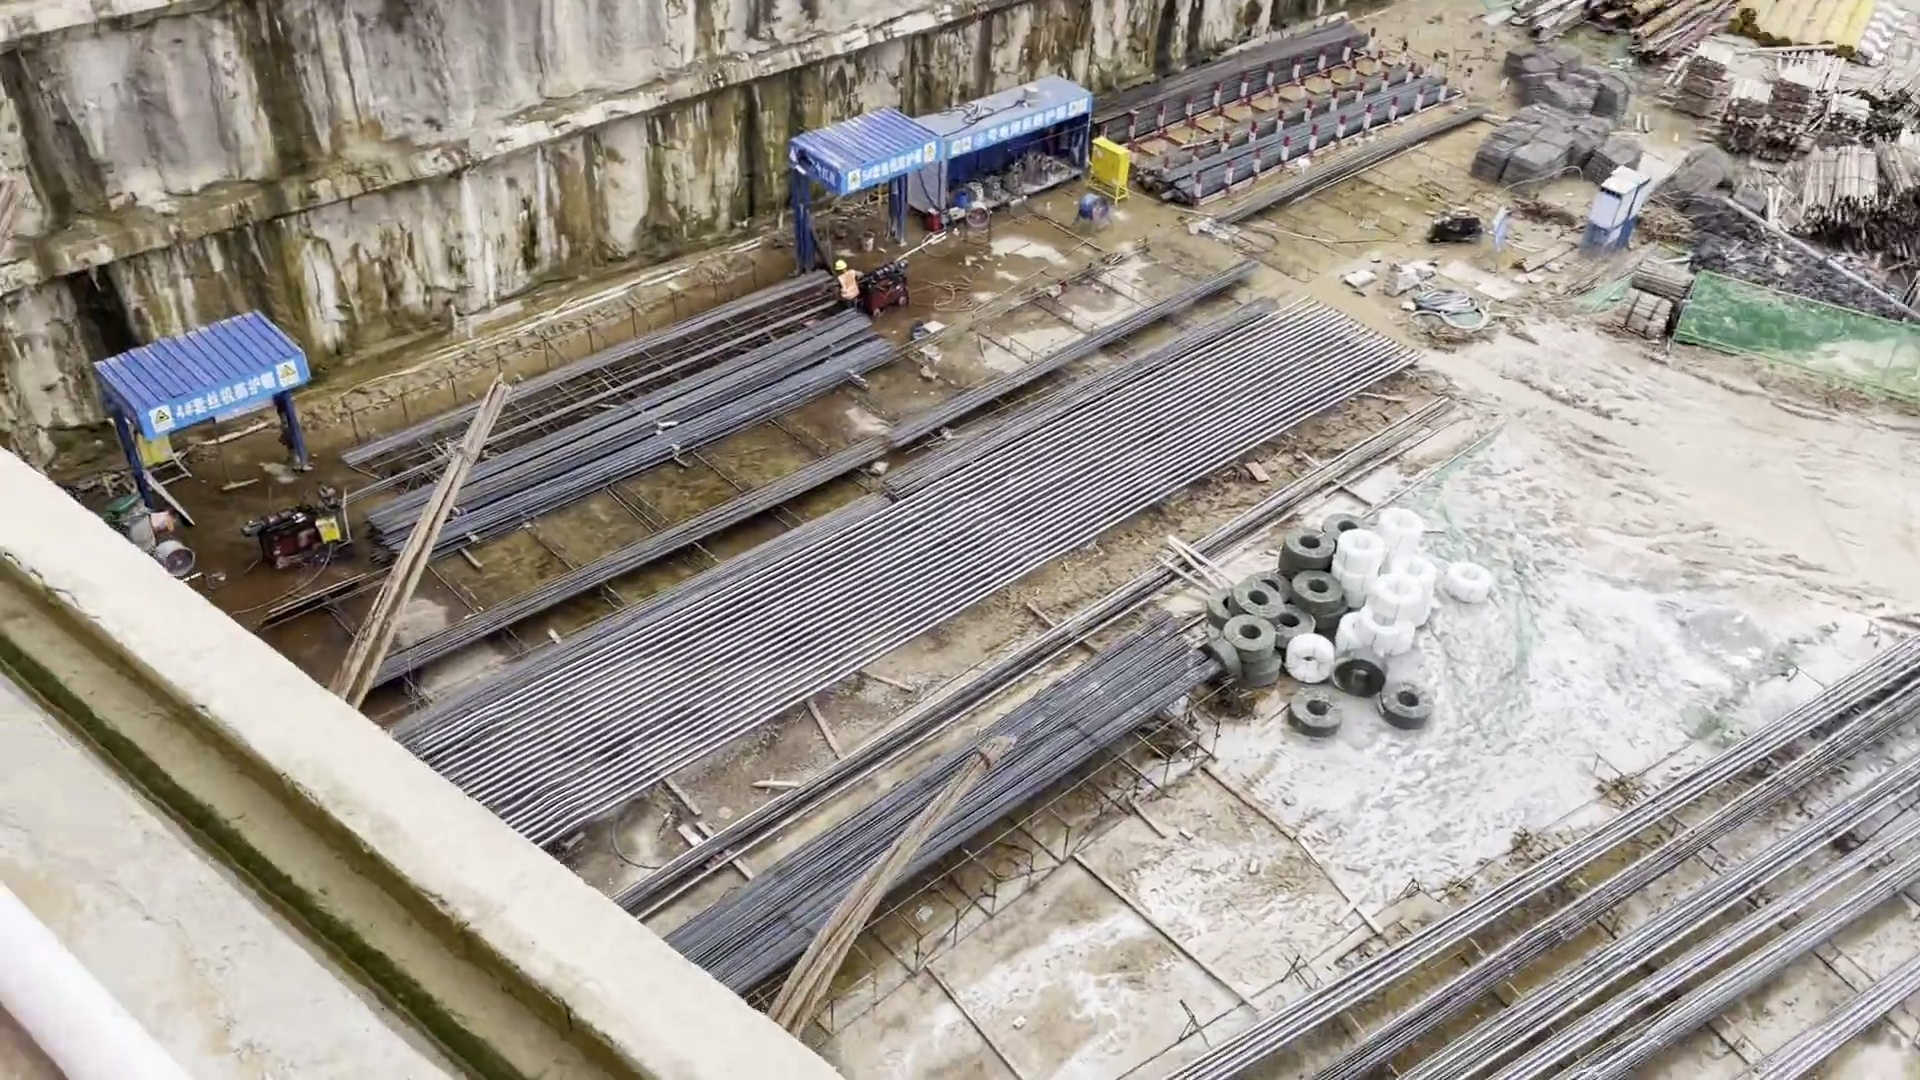cutter: (948, 152, 1066, 212)
ebox: (1085, 135, 1134, 204)
helmet: (834, 260, 846, 270)
person: (828, 259, 867, 310)
rebar: (1077, 626, 1918, 1080), (637, 615, 1221, 1005), (336, 268, 903, 564), (1078, 18, 1492, 230)
slogan: (147, 353, 305, 443), (947, 97, 1090, 158), (841, 140, 939, 195)
vest: (835, 270, 858, 299)
wood: (1669, 39, 1869, 170)
